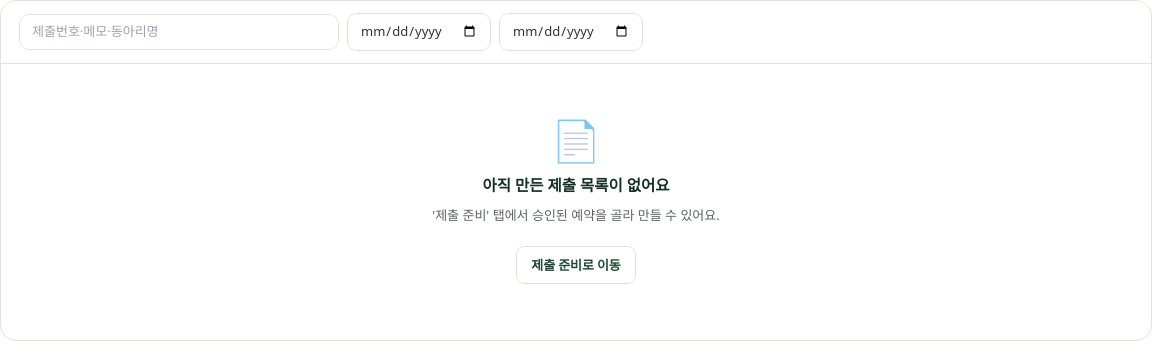
Test: SubmissionBatchesTab › 필터가 걸린 빈 결과는 조건 안내와 초기화 버튼을 보여주고, 초기화하면 필터 키가 빠진다
This screenshot has width=1152, height=358.
Type "없는목록" into the search field named "제출 목록 검색" at (179, 32), box [19,14,339,50]
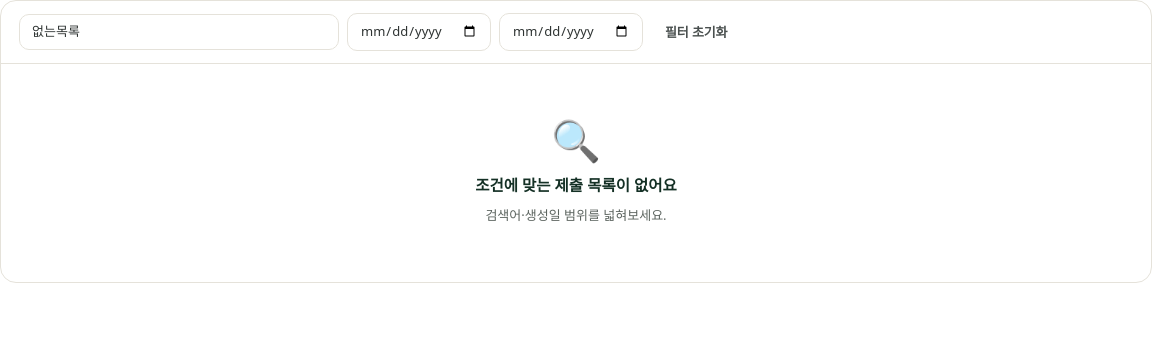
Now the text "조건에 맞는 제출 목록이 없어요" is shown, box [475,174,677,196]
Click the button "필터 초기화" at (696, 32), box [651,14,741,50]
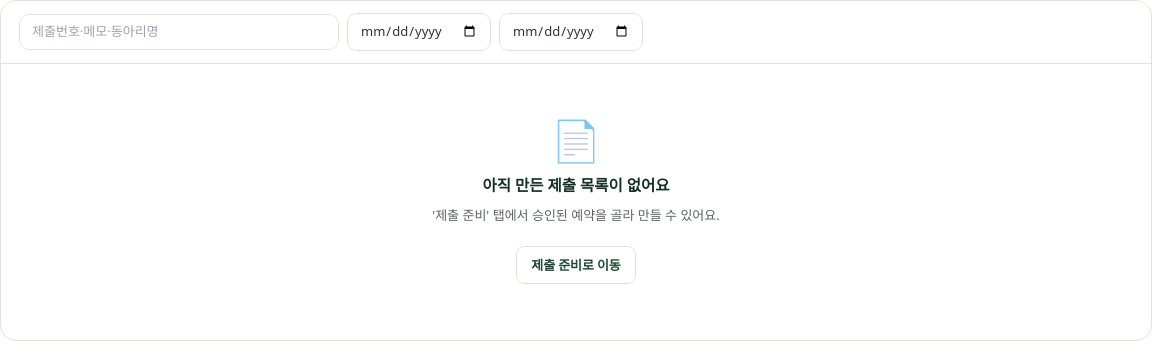
Now the search field named "제출 목록 검색" is empty, box [19,14,339,50]
Now the text "아직 만든 제출 목록이 없어요" is shown, box [482,174,670,196]
